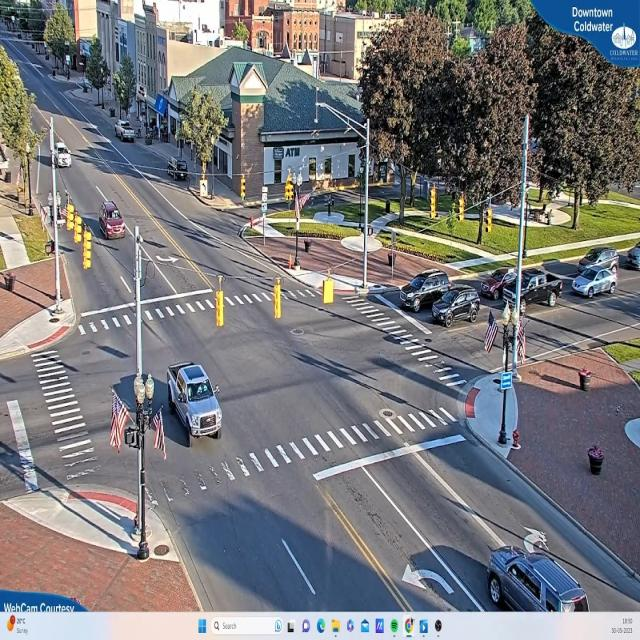car: (487, 547, 588, 612), (169, 362, 224, 439), (492, 271, 563, 308), (400, 272, 454, 313), (432, 290, 479, 328), (571, 266, 616, 299), (97, 201, 127, 241), (118, 121, 138, 143), (54, 145, 72, 169)
